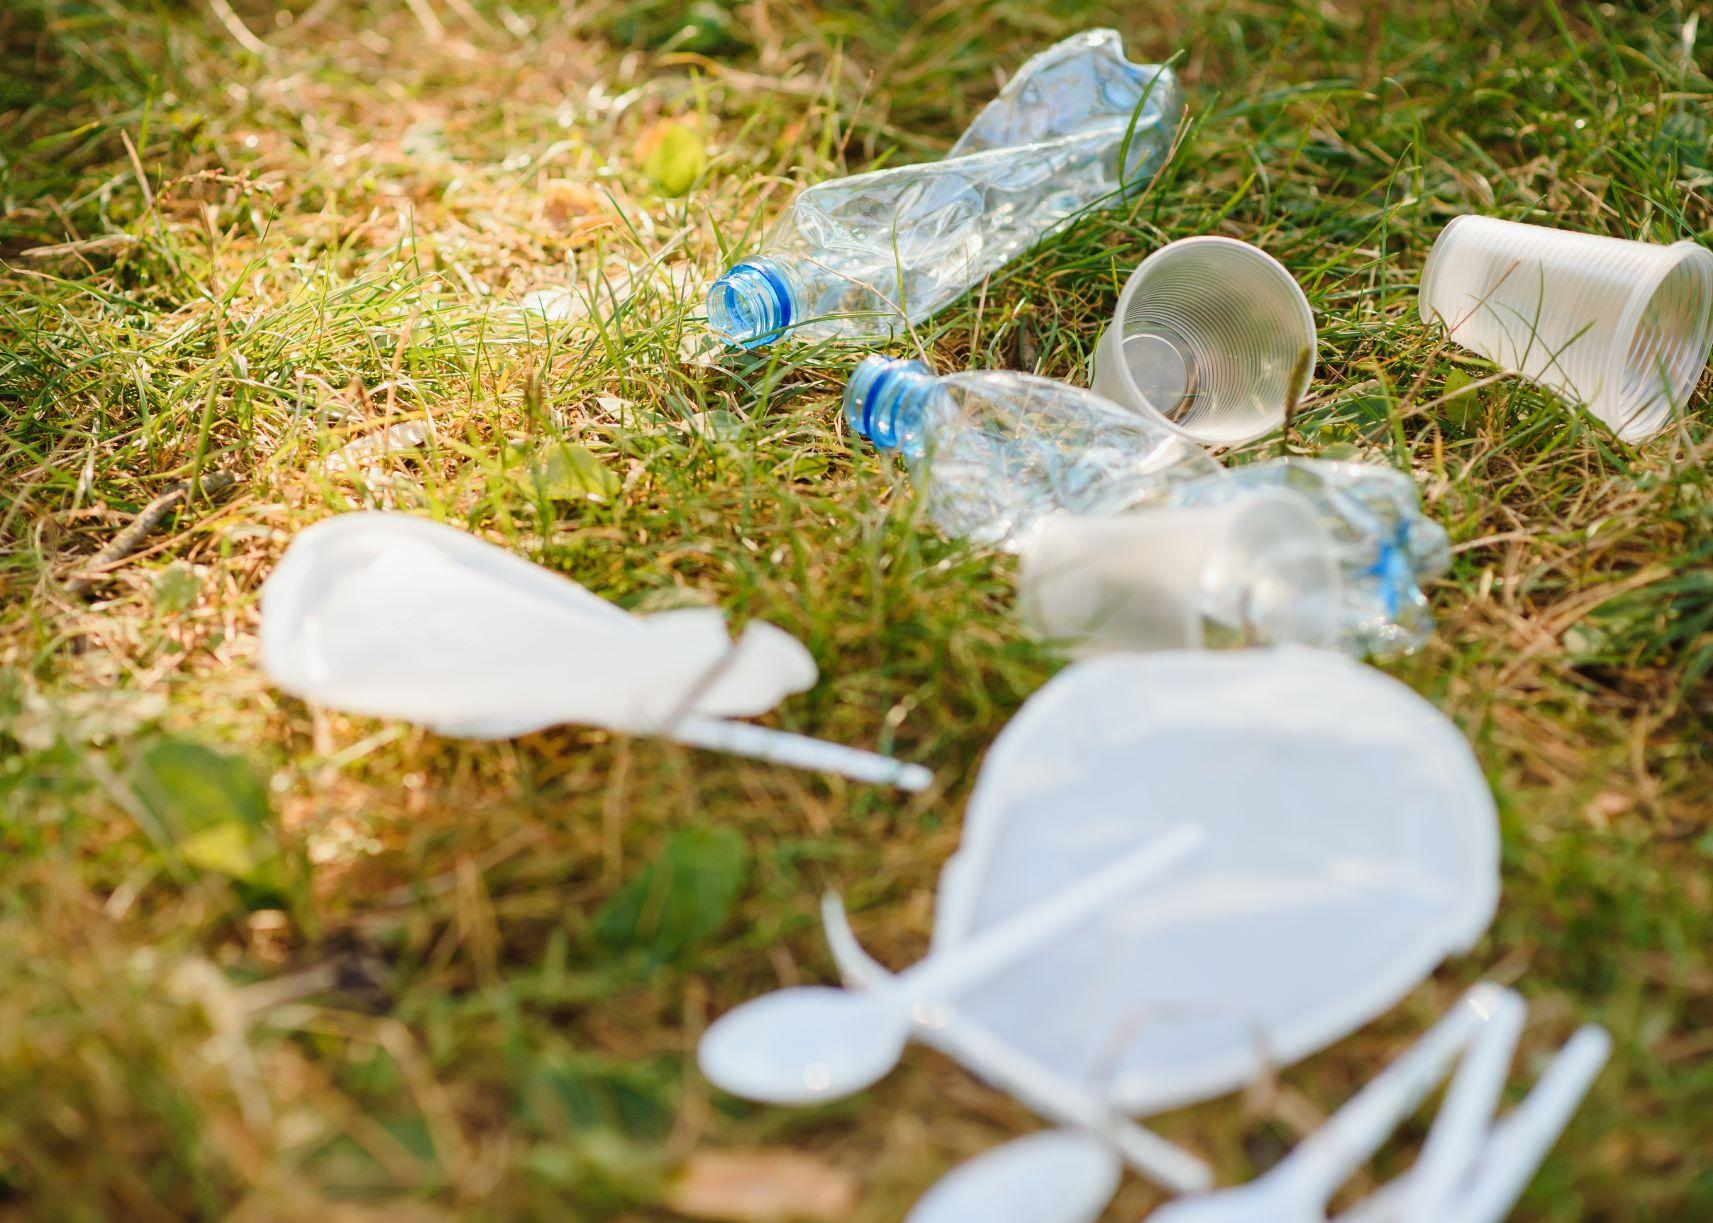PETE: (835, 348, 1456, 666), (700, 23, 1199, 355)
PP: (1415, 208, 1713, 449), (1083, 233, 1321, 449)
PS: (695, 817, 1222, 1120), (257, 498, 819, 748)
